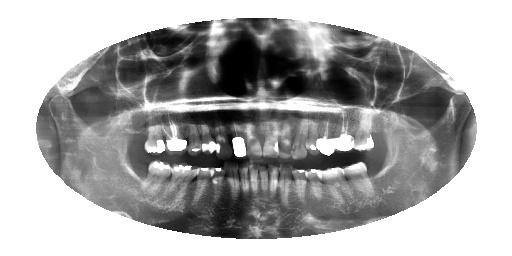i10decay: (236, 156, 251, 208)
i11decay: (223, 154, 241, 210)
i12healthy: (208, 161, 226, 216)
i13healthy: (190, 160, 215, 210)
i14decay: (162, 156, 203, 213)
i15healthy: (139, 151, 173, 206)
i2healthy: (340, 155, 376, 201)
i3healthy: (318, 162, 353, 214)
i4healthy: (302, 162, 325, 210)
i5healthy: (287, 159, 310, 211)
i6healthy: (276, 158, 294, 214)
i7decay: (265, 158, 283, 206)
i8decay: (255, 158, 271, 205)
i9decay: (244, 157, 264, 207)
u10healthy: (228, 110, 248, 163)
u11healthy: (209, 114, 234, 166)
u12healthy: (195, 109, 221, 160)
u13healthy: (186, 114, 205, 161)
u14healthy: (158, 106, 191, 156)
u15healthy: (142, 111, 169, 160)
u2healthy: (349, 104, 378, 155)
u3healthy: (329, 99, 357, 156)
u4healthy: (311, 102, 338, 163)
u5healthy: (302, 107, 320, 157)
u6decay: (288, 113, 310, 161)
u7decay: (274, 105, 296, 165)
u8healthy: (260, 112, 282, 163)
u9decay: (240, 104, 264, 161)
